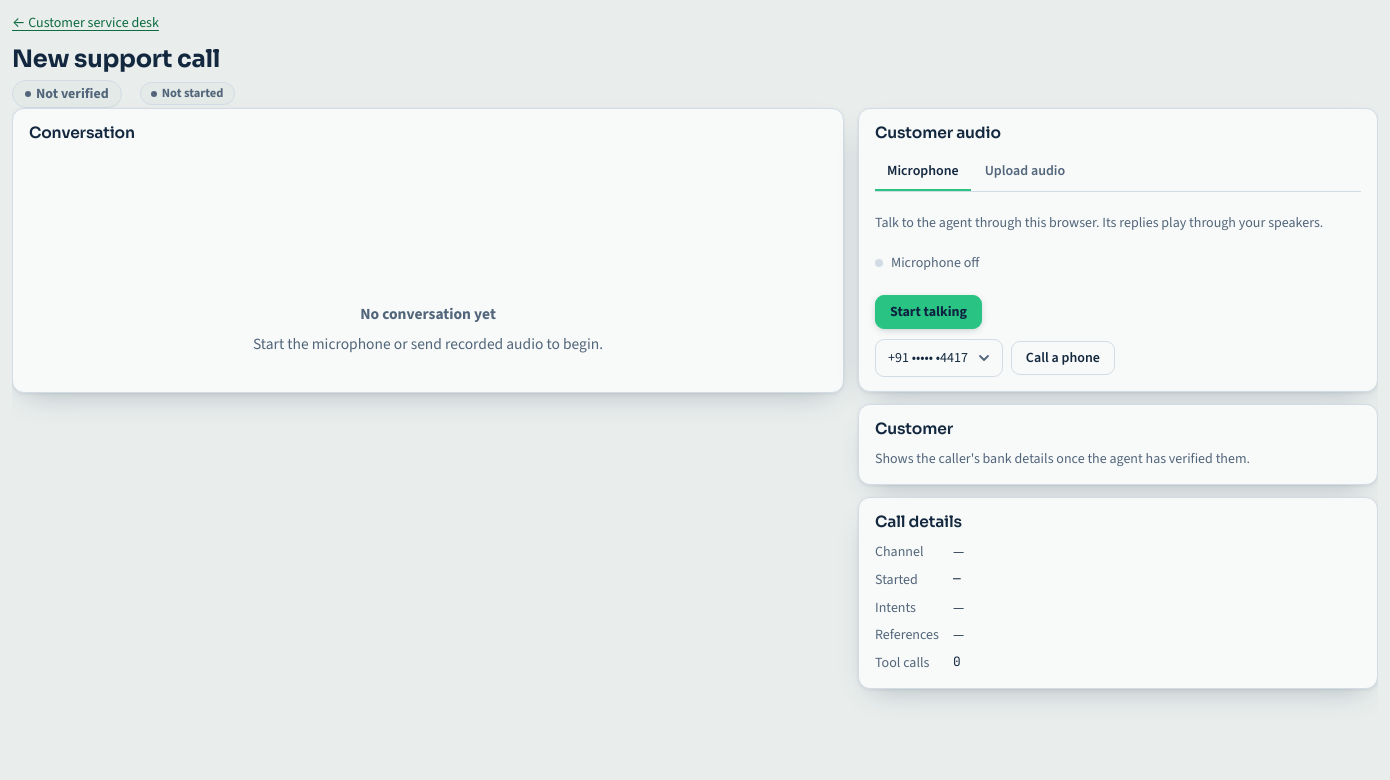
SupportCall polling › slows down when a rung phone is never answered
Click the button "Call a phone" at (1063, 358), box [1011,341,1115,374]
Wait 132000 ms
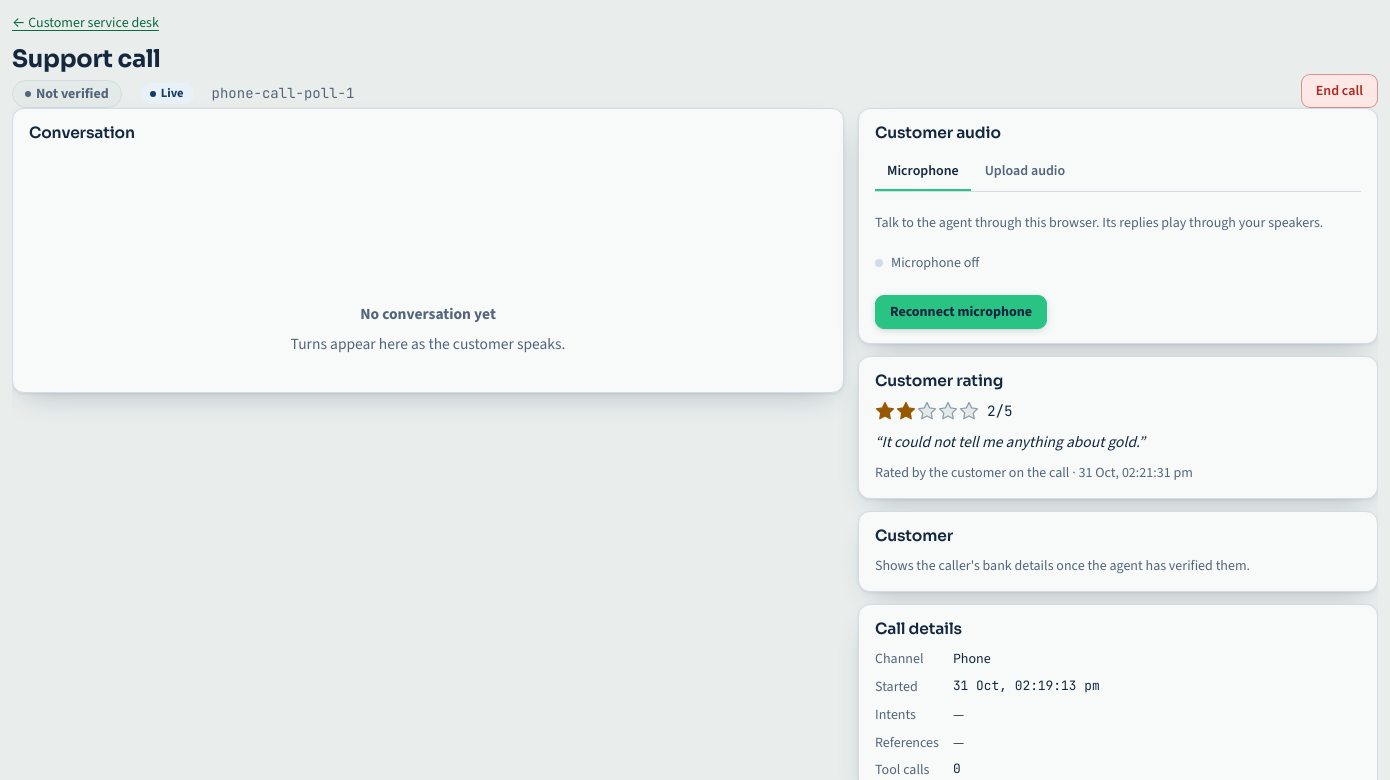
Expected: the text "phone-call-poll-1" is shown, [212,83,354,104]
